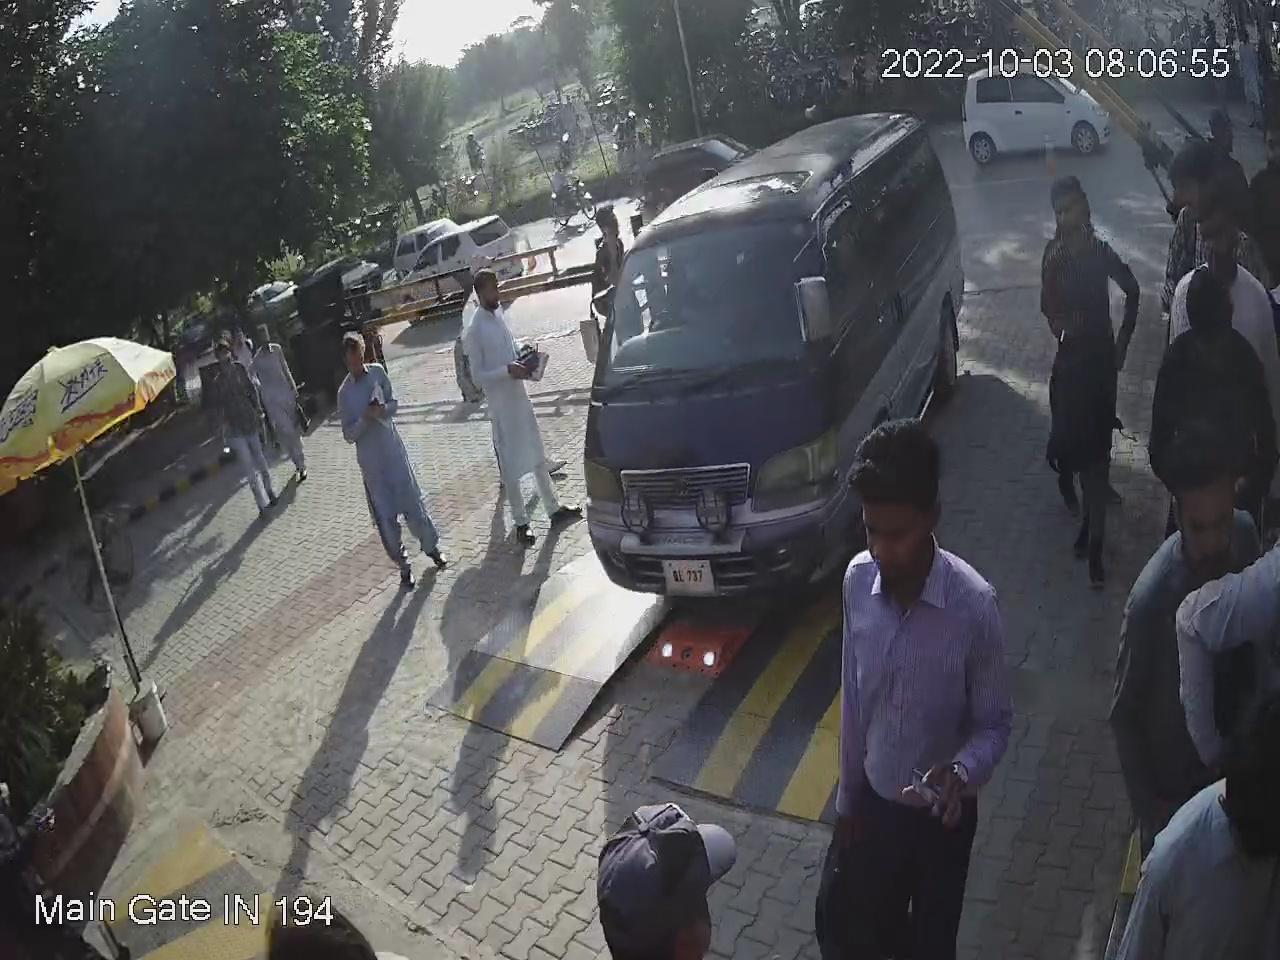windshield: (596, 205, 817, 390)
